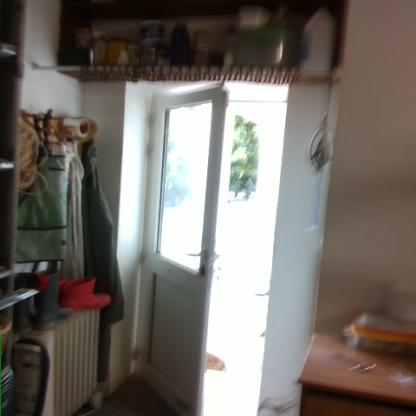semi: (122, 73, 304, 415)
